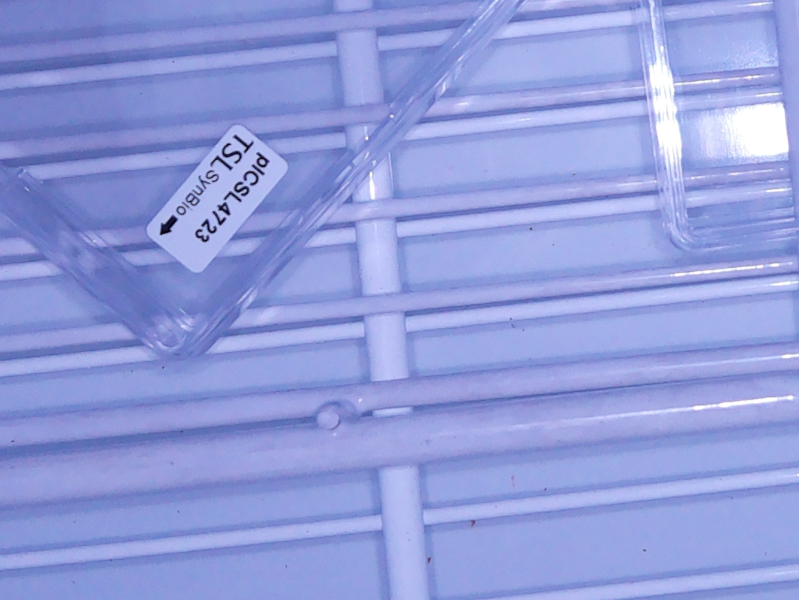plate: (1, 1, 531, 365), (634, 1, 799, 253)
